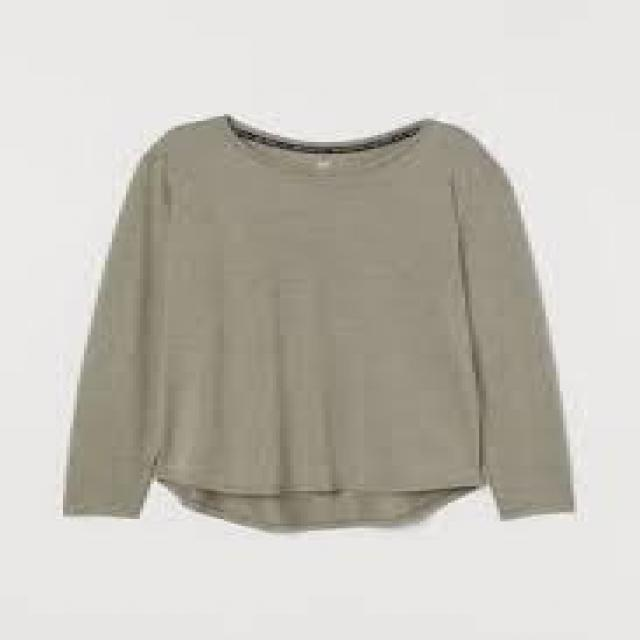plain: (62, 111, 578, 529)
